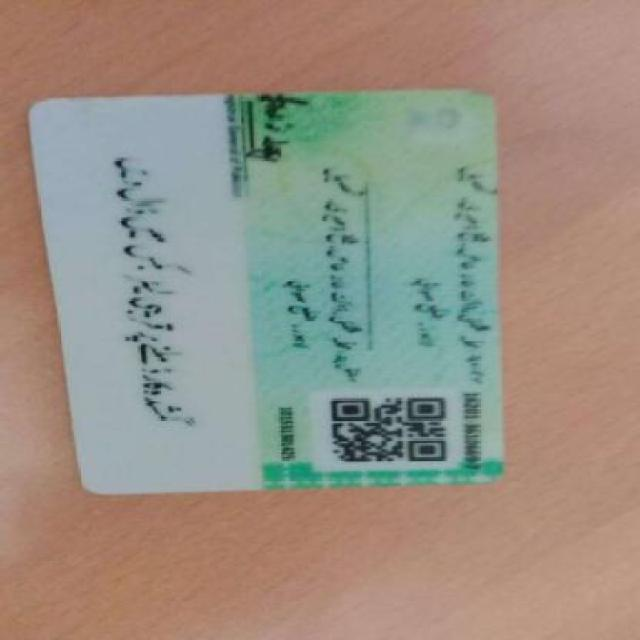Back: (18, 81, 524, 492)
